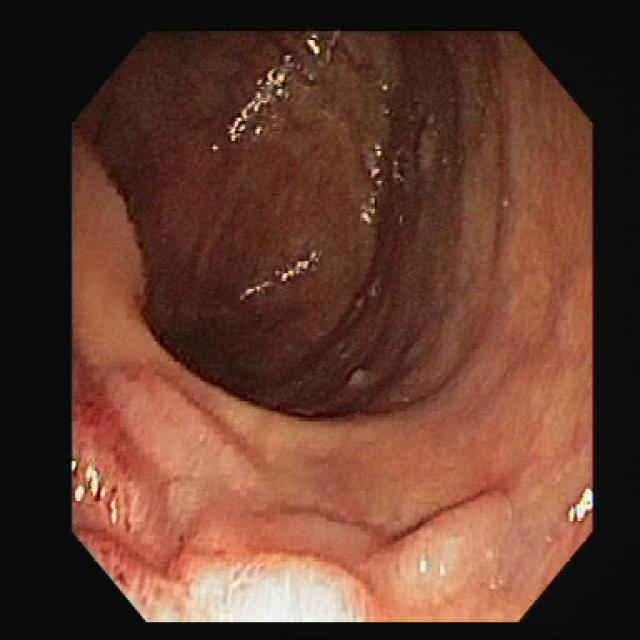tumor: (73, 353, 535, 620)
